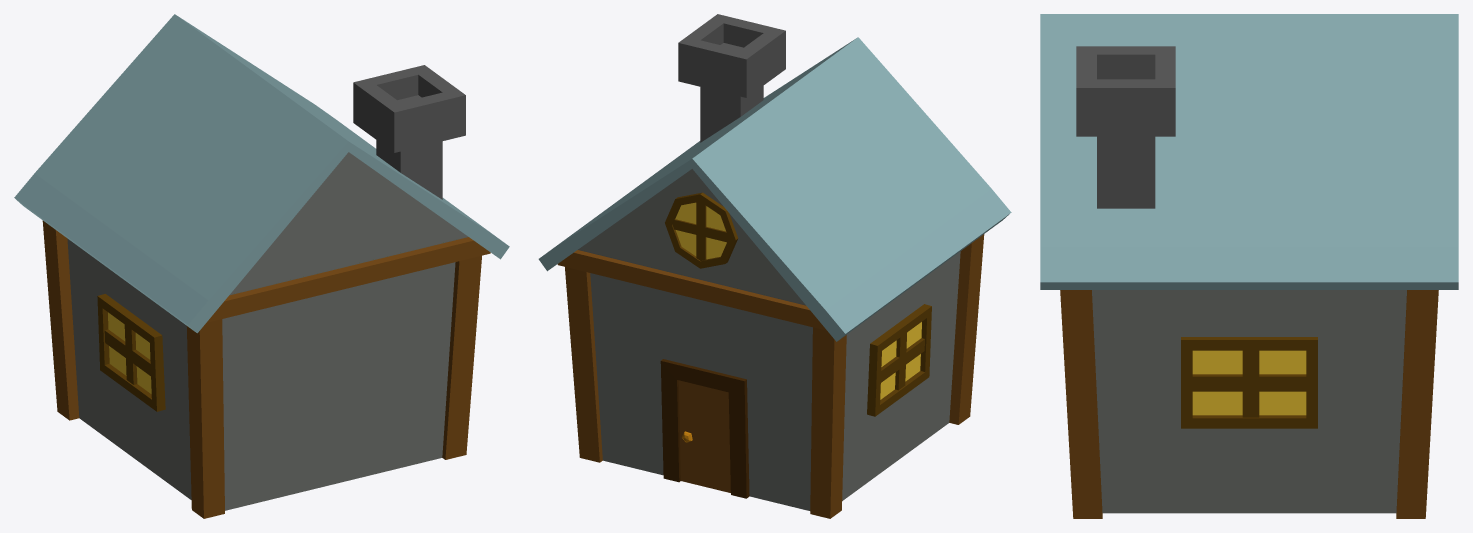
File: HouseBlue.fbx
3 views of the same model, side by side, from view 1: azimuth 30°, elevation 25°; view 2: azimuth 150°, elevation 25°; view 3: azimuth 270°, elevation 25° (orthographic). The views are drawn at different scales.
Visible parts, largest first — view 1: pCube27; view 2: pCube27; view 3: pCube27.
Boxes of the visible parts, left/top/right/bottom form: pCube27: left=14, top=14, right=509, bottom=518; pCube27: left=538, top=14, right=1011, bottom=518; pCube27: left=1040, top=14, right=1458, bottom=518.
Size of the model in its own units: 5.94 by 6.33 by 5.57.
